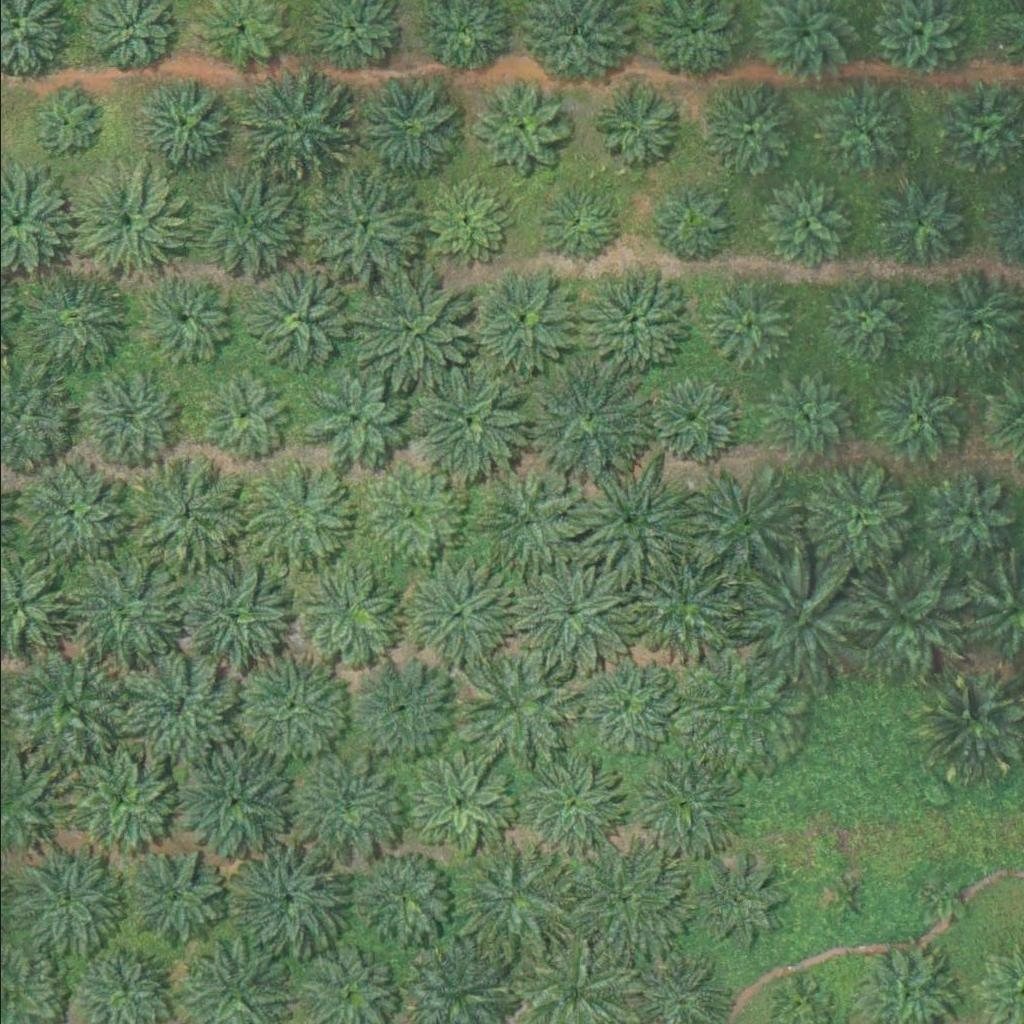Kelapa_Sawit: (681, 654, 795, 767), (849, 566, 963, 679), (742, 566, 856, 679), (349, 74, 463, 187), (236, 66, 350, 179), (128, 72, 241, 185), (66, 164, 179, 277), (577, 263, 690, 376), (461, 264, 574, 377), (528, 367, 641, 480), (410, 365, 523, 478), (238, 461, 351, 574), (129, 453, 242, 566), (628, 546, 741, 659), (566, 649, 679, 762), (459, 653, 572, 766), (345, 650, 458, 763), (291, 753, 404, 866), (181, 745, 294, 858), (6, 846, 119, 959), (60, 747, 173, 860), (61, 558, 174, 671), (10, 458, 123, 571), (304, 172, 418, 284), (192, 169, 306, 281), (124, 266, 238, 378), (633, 744, 747, 856), (518, 748, 632, 860), (566, 843, 680, 955), (458, 840, 572, 952), (12, 263, 126, 375), (679, 845, 792, 957), (799, 462, 912, 574), (685, 469, 798, 581), (355, 273, 468, 385), (242, 267, 355, 379), (570, 464, 683, 576), (468, 466, 581, 578), (509, 555, 622, 667), (398, 556, 511, 668), (174, 561, 287, 673), (231, 649, 344, 761), (119, 650, 232, 762), (238, 841, 351, 953), (9, 652, 122, 764), (870, 370, 971, 470), (870, 175, 971, 275), (813, 80, 914, 180), (700, 81, 801, 181), (305, 366, 406, 466), (359, 462, 460, 562), (299, 562, 400, 662), (412, 752, 513, 852), (121, 847, 222, 947), (468, 76, 568, 176), (77, 369, 177, 469), (356, 848, 456, 948), (762, 372, 850, 460), (645, 377, 733, 465), (820, 274, 908, 362), (589, 83, 677, 171), (535, 181, 623, 269), (421, 178, 509, 266), (702, 281, 791, 368), (762, 181, 851, 268), (927, 472, 1015, 559), (647, 179, 735, 266), (199, 375, 287, 462), (32, 95, 95, 158), (919, 881, 957, 918), (828, 877, 866, 914)
